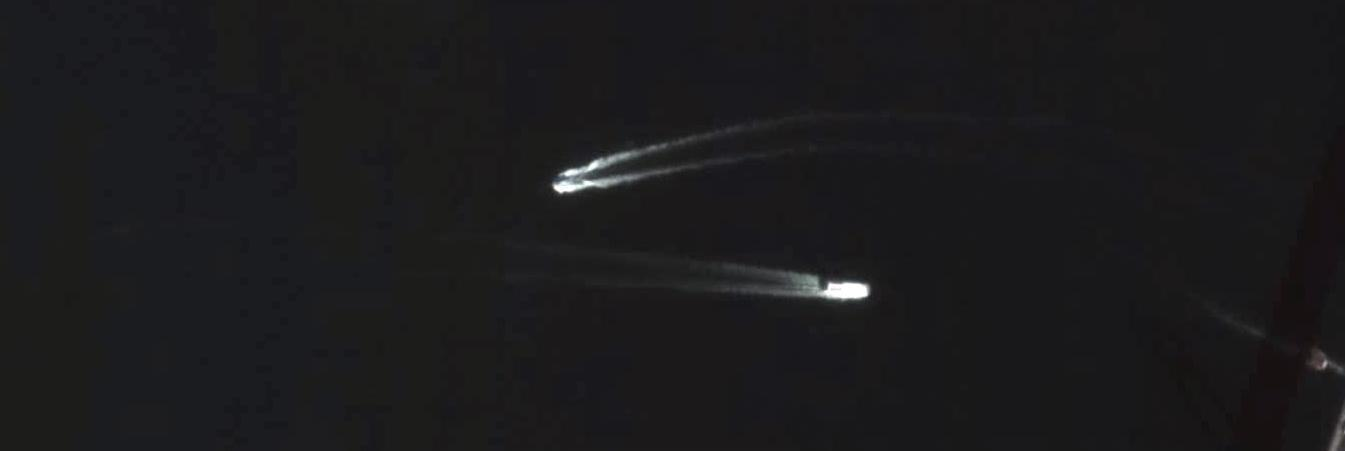person: (827, 281, 871, 300), (553, 175, 572, 185)
